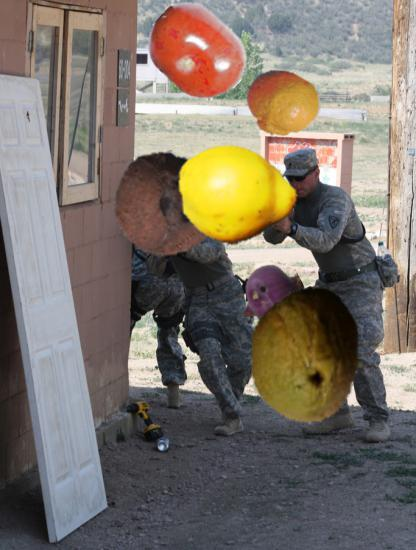Cherry: (145, 1, 249, 105)
Cocos: (98, 123, 233, 258)
Mandarine: (244, 66, 321, 143)
Onion: (237, 264, 306, 333)
Papaya: (237, 285, 376, 424)
Quince: (178, 135, 300, 257)
